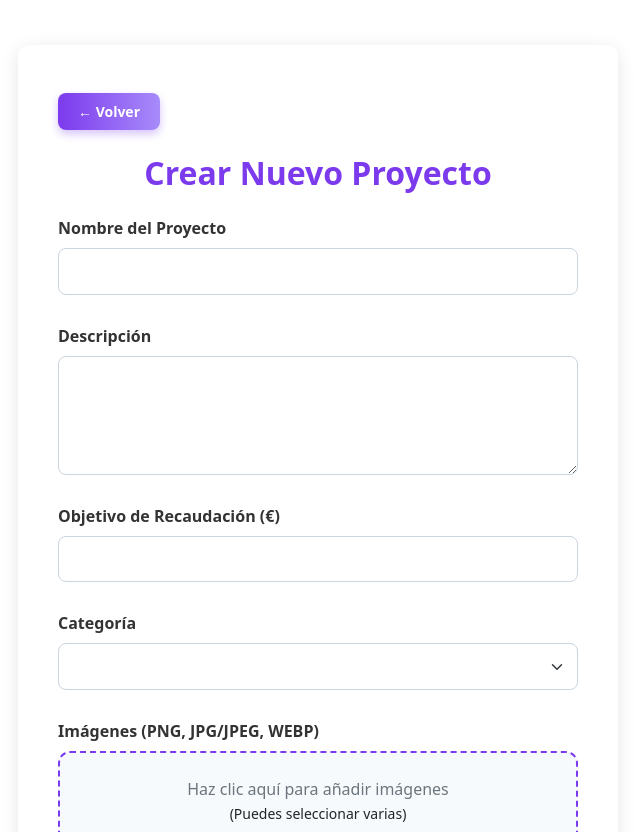
Test case: CreateProject.vue › muestra error si createProject falla
The width and height of the screenshot is (637, 832).
Type "X" into the field with id "name" at coordinates (318, 272), box [58,248,578,295]
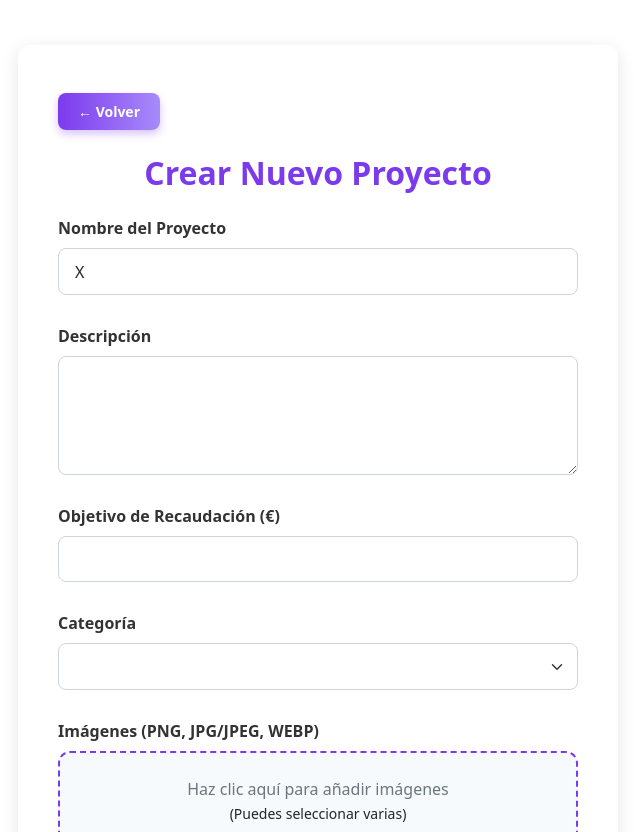
Type "D" into the text box with id "description" at coordinates (318, 415), box [58,356,578,475]
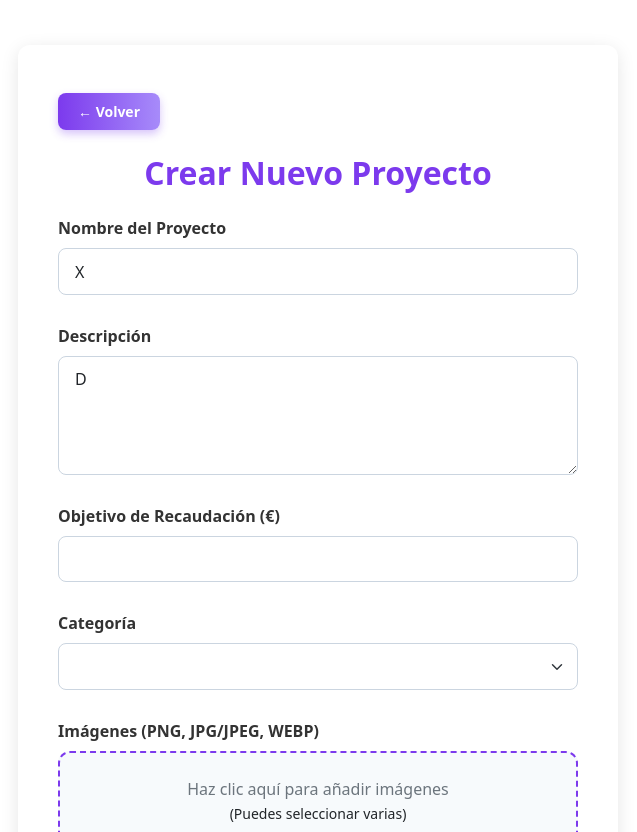
Type "50" into the number field with id "goal" at coordinates (318, 559), box [58,536,578,582]
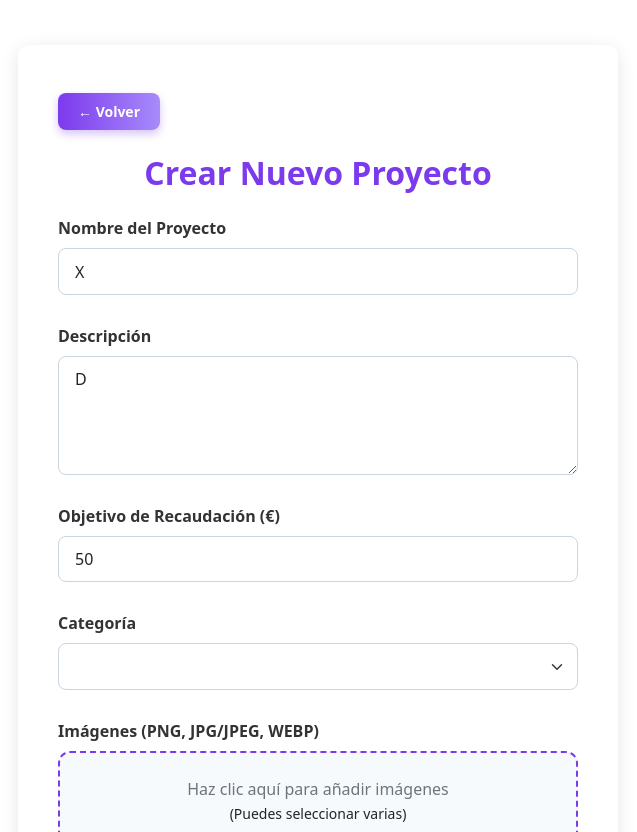
Select "Selecciona una categoría" in the dropdown with id "category" at coordinates (318, 666), box [58,643,578,690]
(page scrolled)
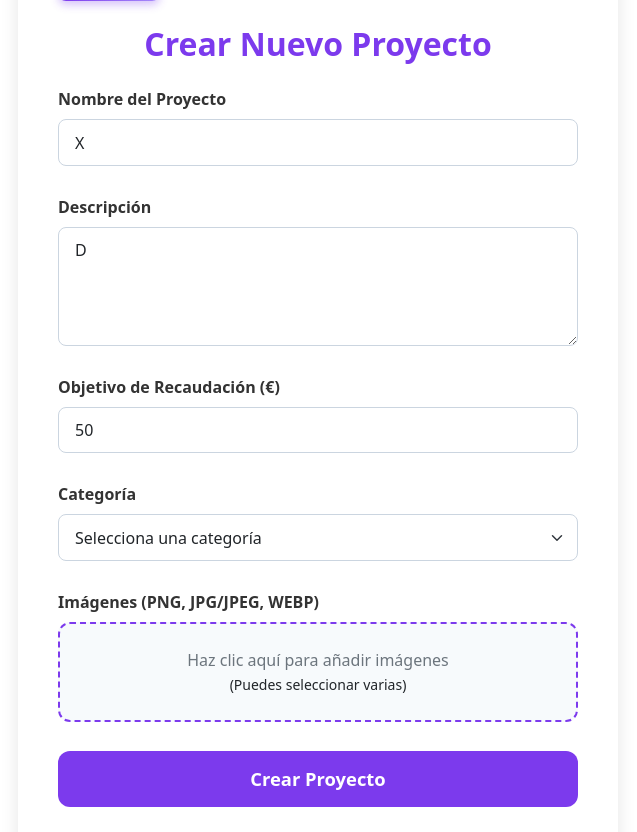
Submit the form
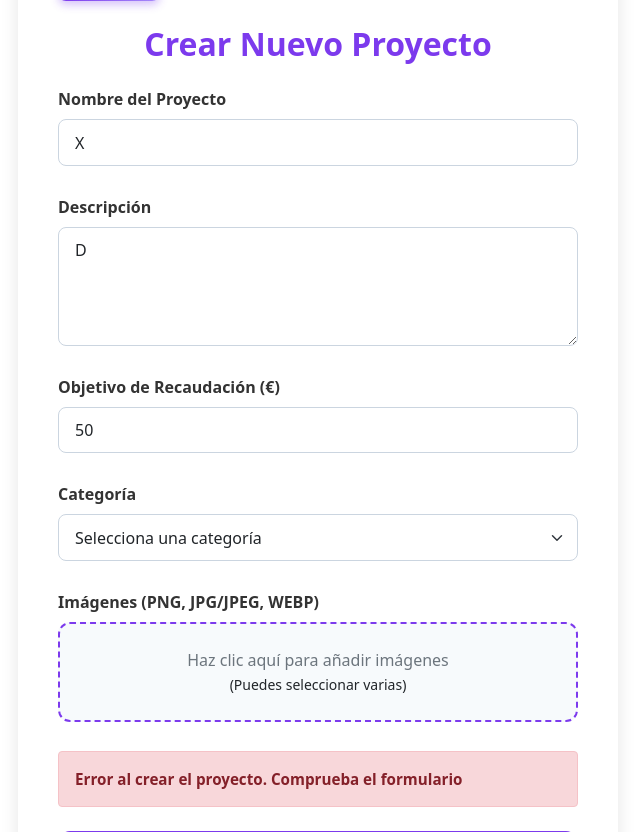
Expected: the text "Error al crear el proyecto. Comprueba el formulario" is shown, [58,750,578,807]
